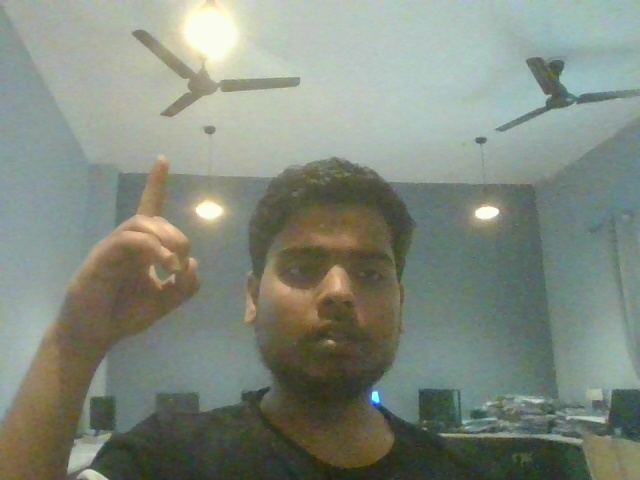D: (32, 141, 224, 357)
